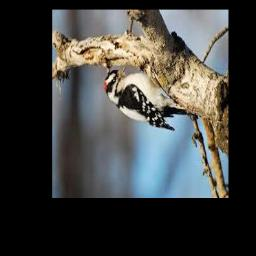Woodpecker: (105, 64, 193, 131)
